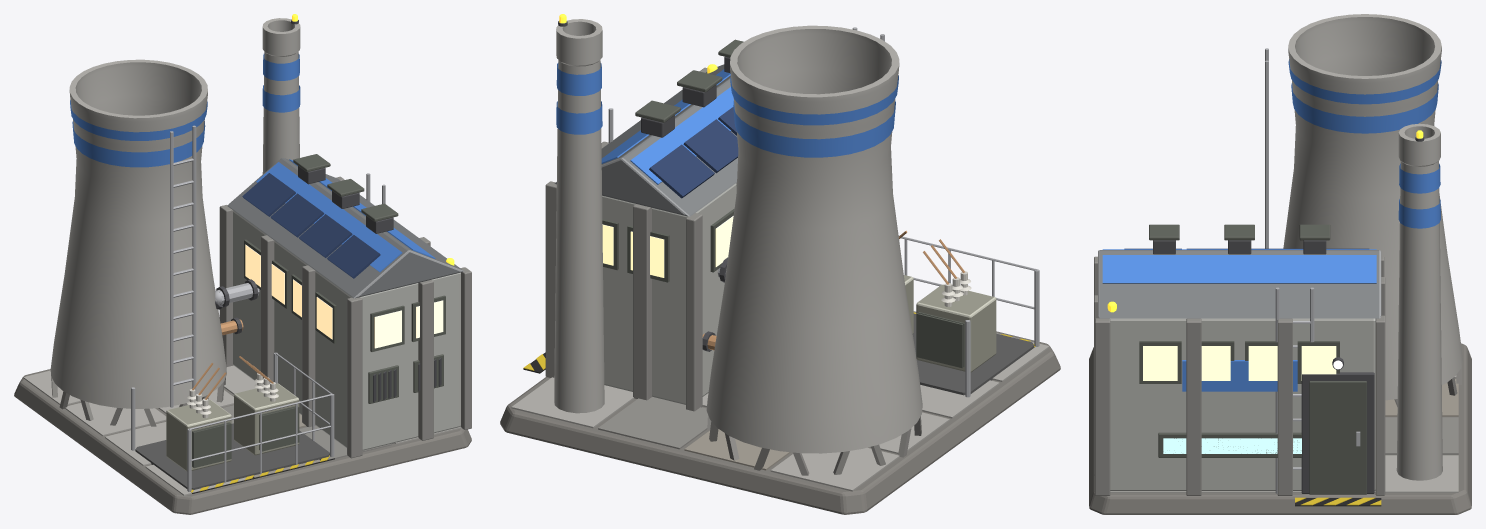
The model's file is power_plant_blue.glb.
The picture shows the model from 3 angles, left to right: view 1: azimuth 30°, elevation 25°; view 2: azimuth 150°, elevation 25°; view 3: azimuth 270°, elevation 25°; orthographic projection. The views are drawn at different scales.
Visible parts, largest first — view 1: Body; view 2: Body; view 3: Body.
Boxes of the visible parts, <box> form: Body: <box>14,14,471,514</box>; Body: <box>500,14,1060,514</box>; Body: <box>1089,14,1471,514</box>.
Size of the model in its own units: 4.18 by 4.21 by 3.98.
Materials: 1 (1 with a texture image).
